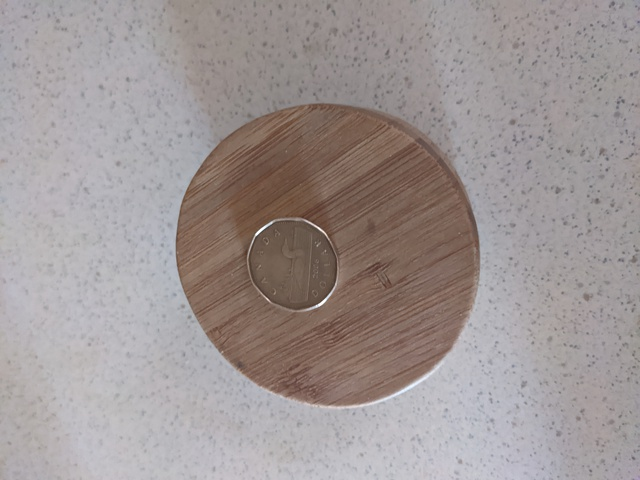loonie: (242, 212, 349, 313)
